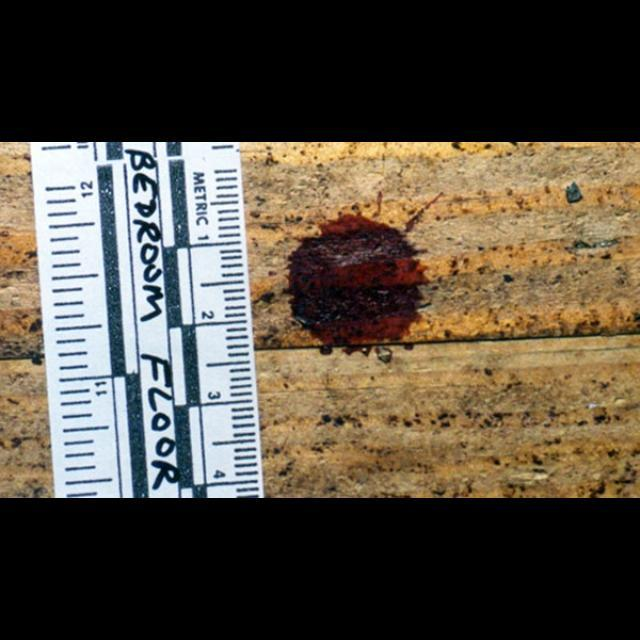blood: (283, 191, 435, 363)
